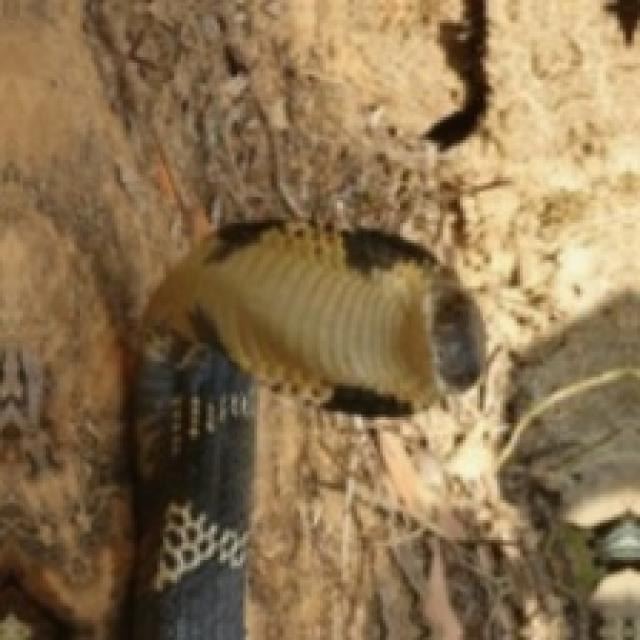king cobra: (149, 223, 483, 403)
